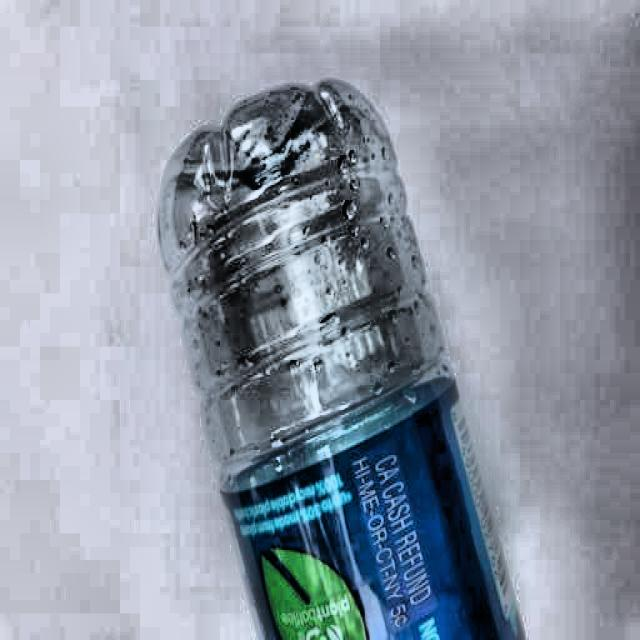plastic: (154, 80, 520, 640)
